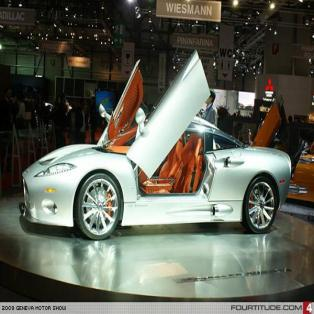Auto: (18, 47, 292, 242)
